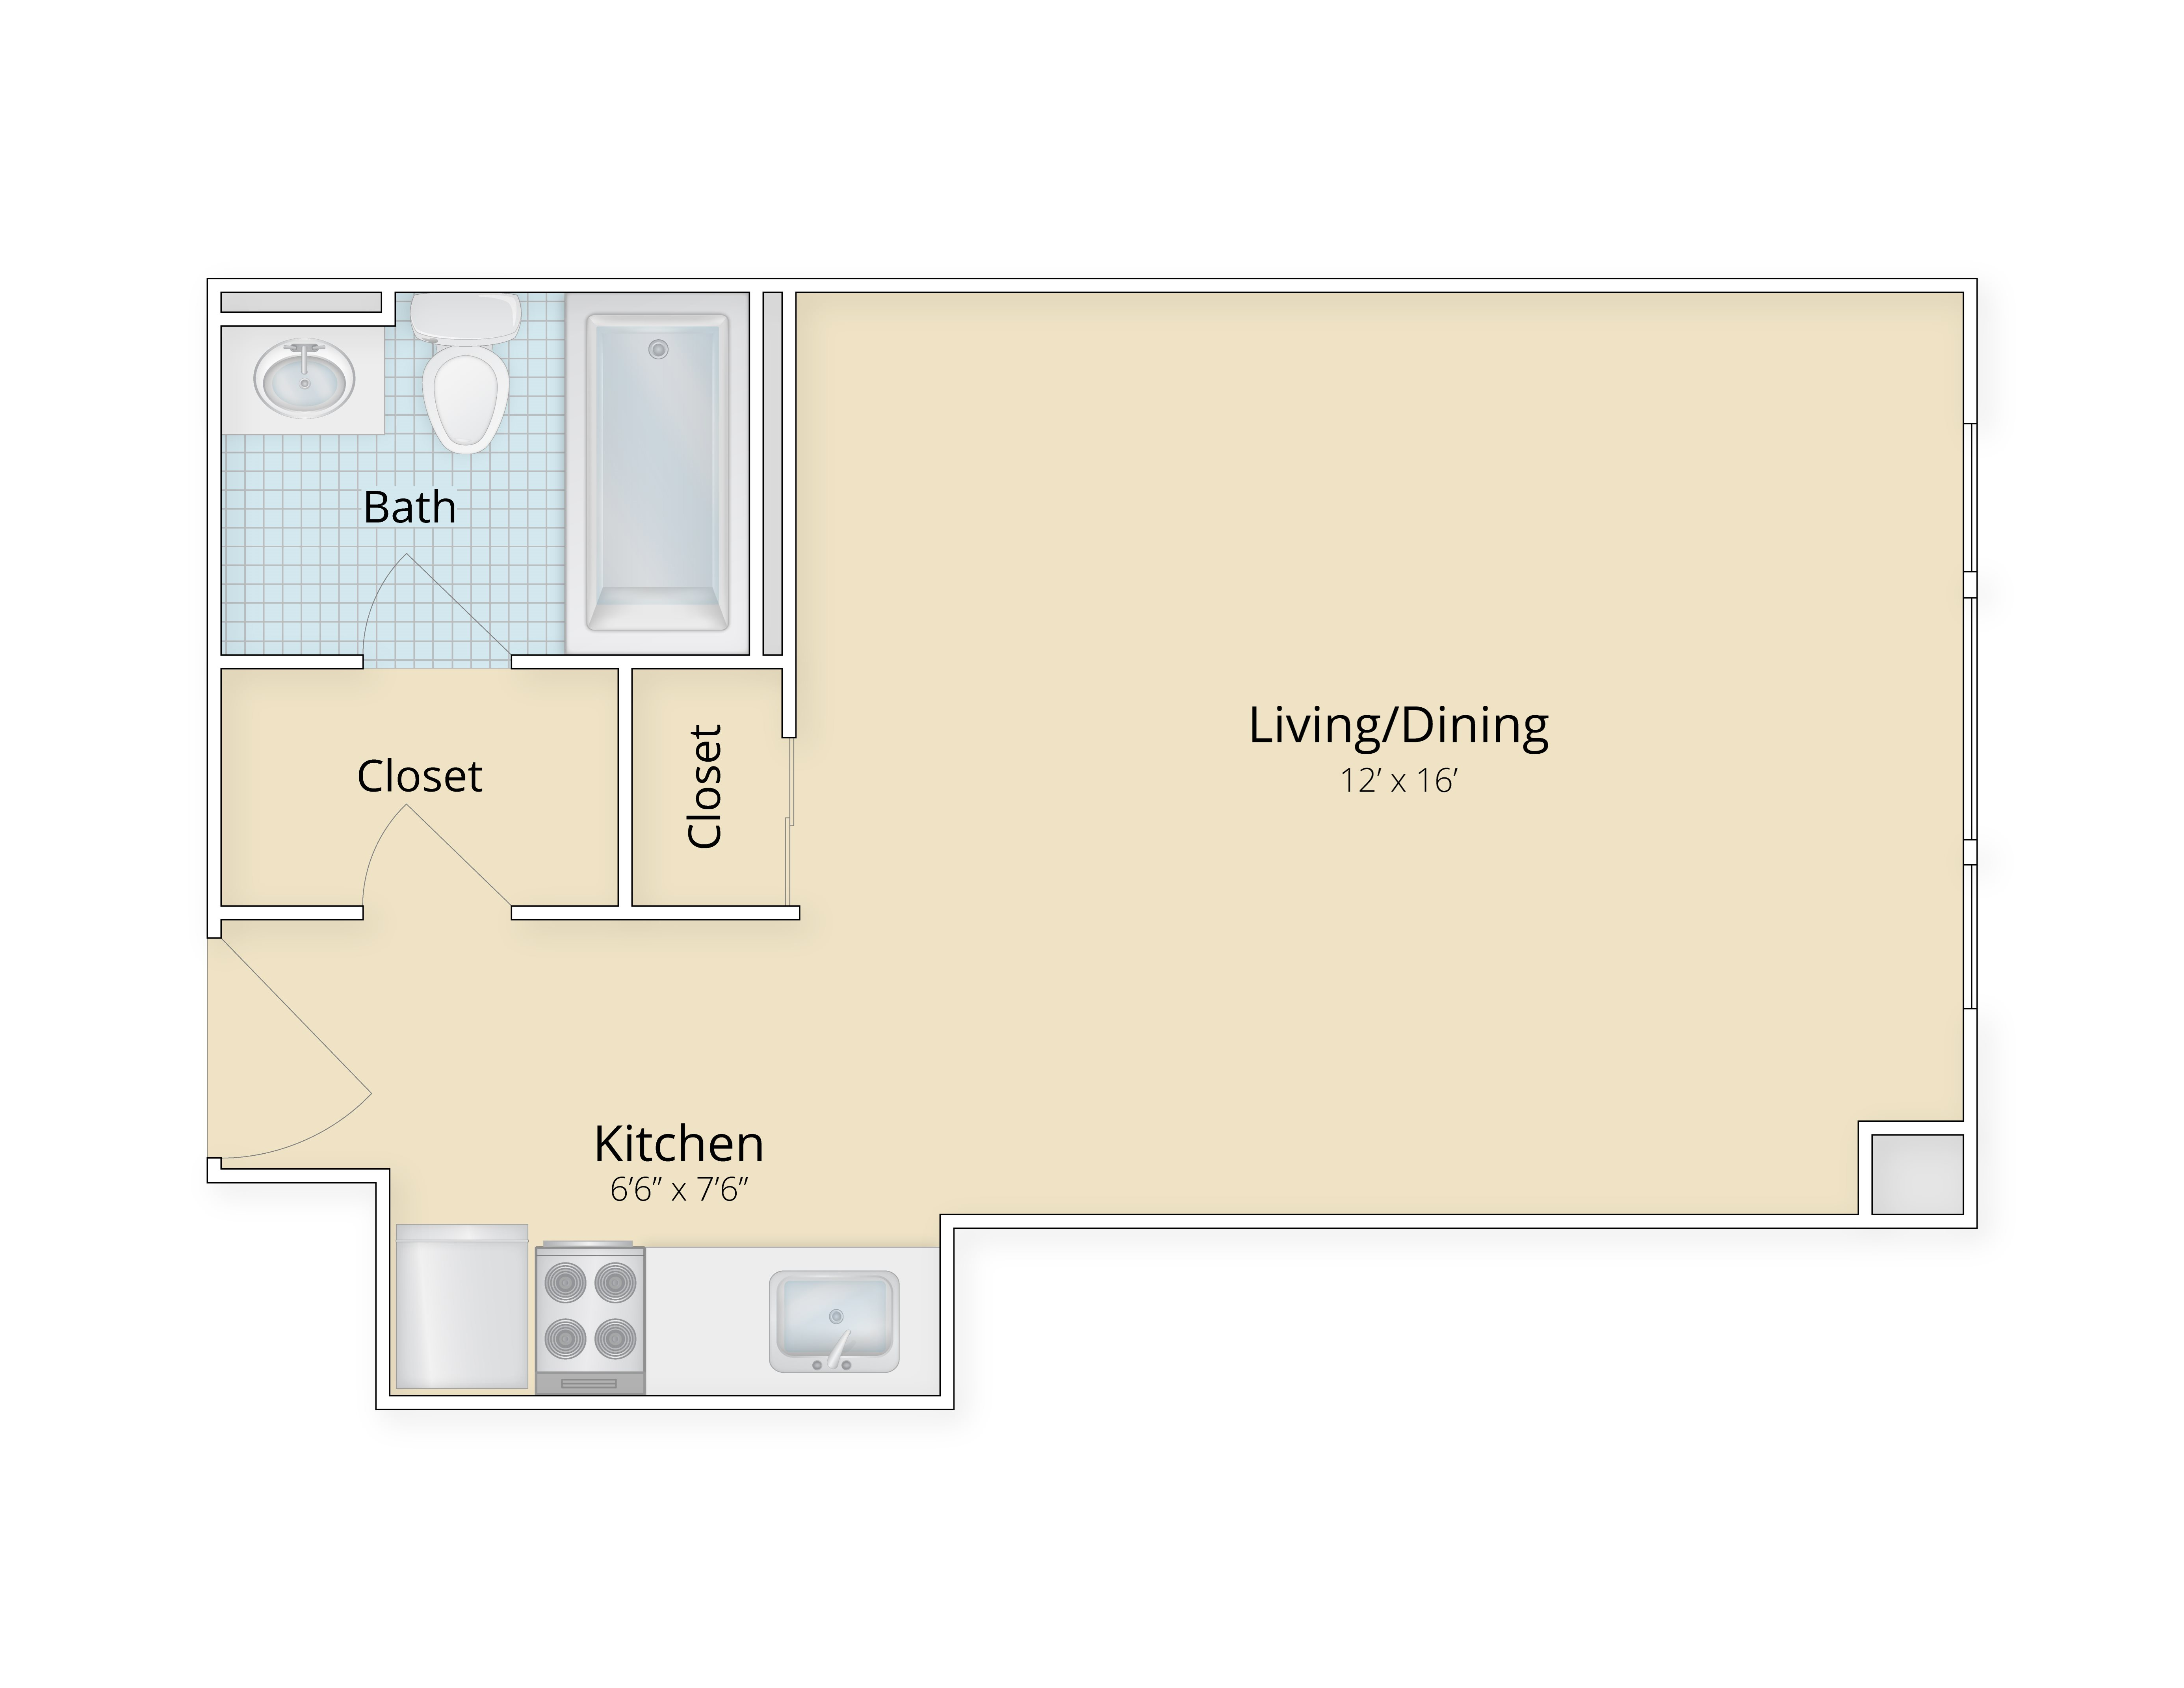door: (202, 934, 379, 1163), (356, 801, 512, 918), (356, 548, 505, 667)
